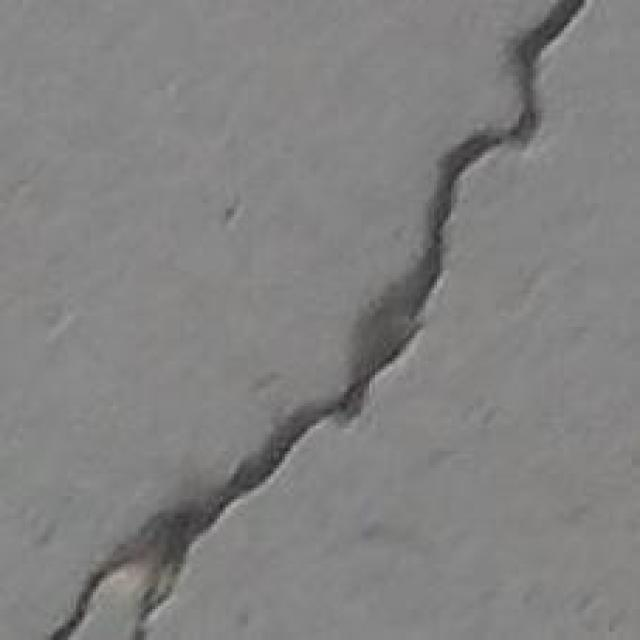Crack: (339, 0, 604, 431), (43, 354, 340, 638)
